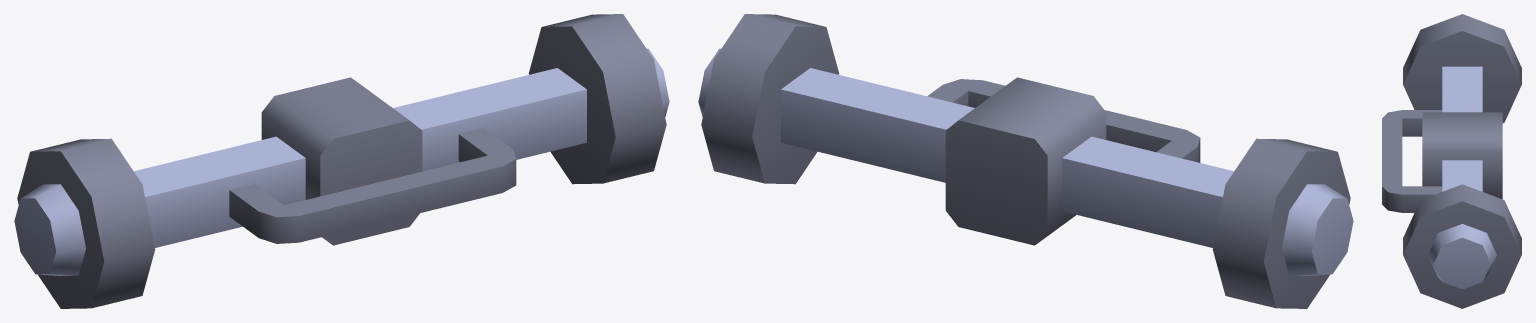
The model's file is debris-drivetrain-axle.glb.
3 views of the same model, side by side, from view 1: azimuth 30°, elevation 25°; view 2: azimuth 150°, elevation 25°; view 3: azimuth 270°, elevation 25° (orthographic). The views are drawn at different scales.
Parts seen in each view (by area): view 1: debris-drivetrain-axle; view 2: debris-drivetrain-axle; view 3: debris-drivetrain-axle.
Part boxes in pixels (x1,y1,x2,y2): debris-drivetrain-axle: (14, 14, 669, 308); debris-drivetrain-axle: (698, 14, 1353, 308); debris-drivetrain-axle: (1382, 14, 1521, 308).
Bounding box in the file's own units: 1.2 × 0.296 × 0.348.
Materials: 1 (1 with a texture image).
